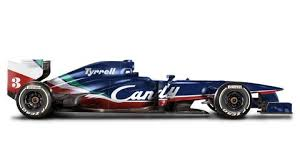FormulaOneCar: (5, 49, 294, 127)
